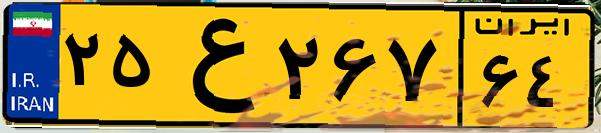2: (270, 28, 330, 110), (57, 26, 110, 100)
4: (525, 38, 570, 115)
5: (110, 28, 158, 98)
6: (330, 28, 385, 110), (475, 38, 525, 113)
7: (385, 28, 445, 110)
ع: (158, 12, 270, 120)
